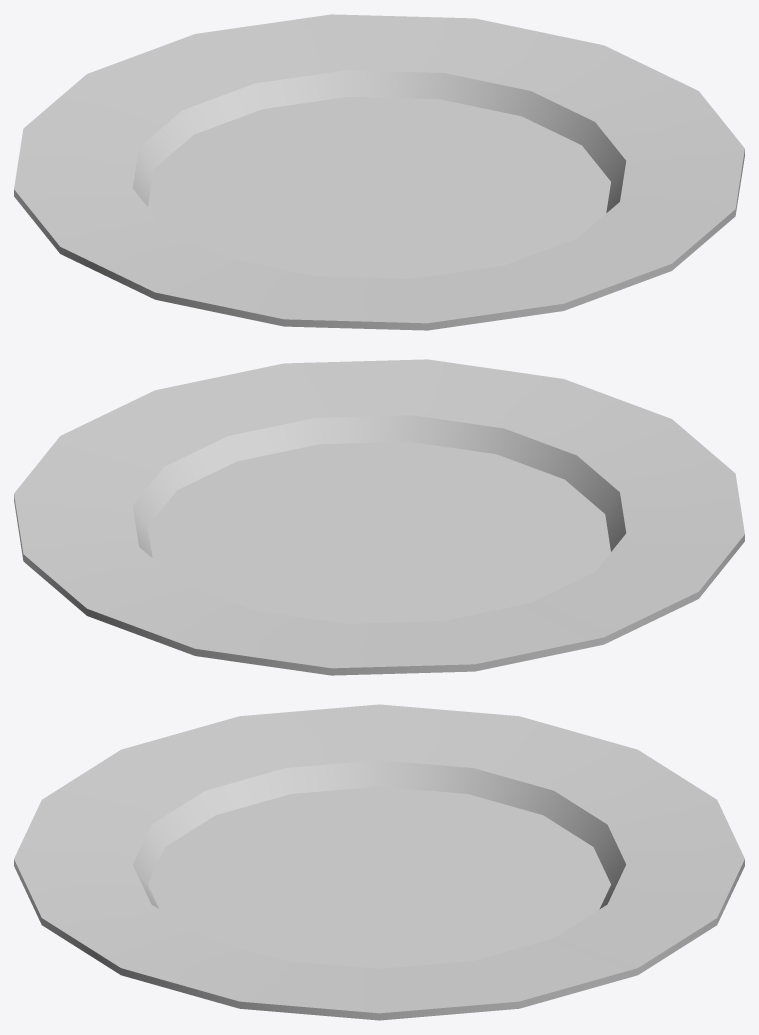
Rendered from DinnerPlate_01.fbx.
3 renders of one model, top to bottom at view 1: azimuth 30°, elevation 25°; view 2: azimuth 150°, elevation 25°; view 3: azimuth 270°, elevation 25°, orthographic.
Parts seen in each view (by area): view 1: DinnerPlate_01; view 2: DinnerPlate_01; view 3: DinnerPlate_01.
Boxes of the visible parts, x1,y1,x2,y2 form: DinnerPlate_01: (14, 14, 744, 330); DinnerPlate_01: (14, 359, 744, 675); DinnerPlate_01: (14, 704, 744, 1020).
Bounding box in the file's own units: 0.2325 × 0.0116 × 0.2325.
